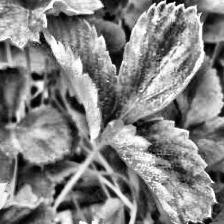Powdery Mildew Leaf: (102, 117, 216, 224), (110, 0, 206, 125), (42, 10, 118, 149)
